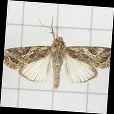Spodoptera litura: (4, 16, 111, 90)
